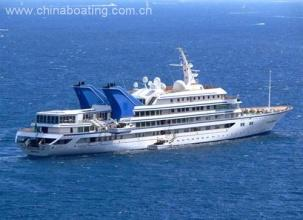youlun: (18, 52, 289, 159)
